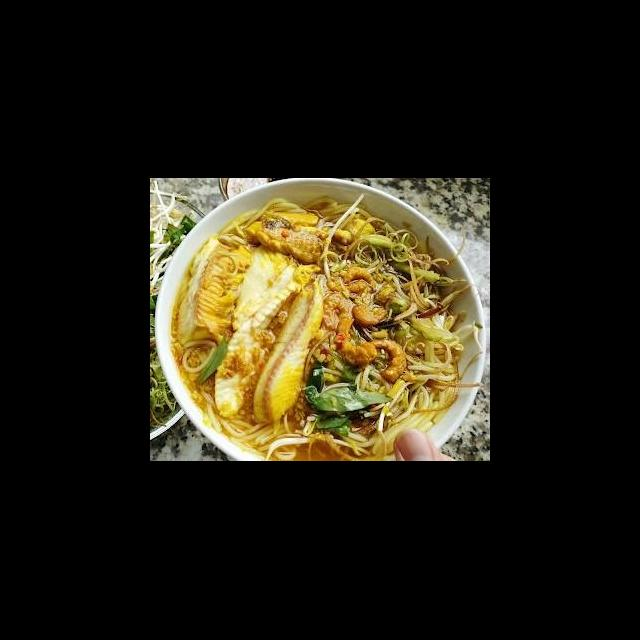bun: (361, 354, 467, 462), (208, 414, 304, 462)
bun ca: (167, 195, 490, 461)
ca: (210, 257, 329, 428), (171, 236, 257, 350), (243, 208, 335, 268)
rau ram: (300, 378, 396, 439), (193, 332, 232, 390)
